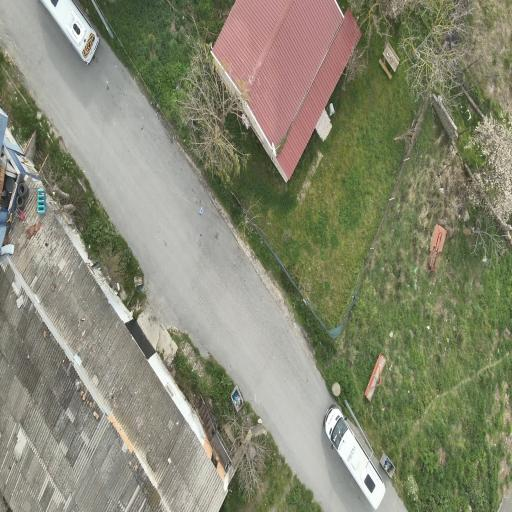car: (324, 405, 385, 508), (41, 0, 98, 63)
